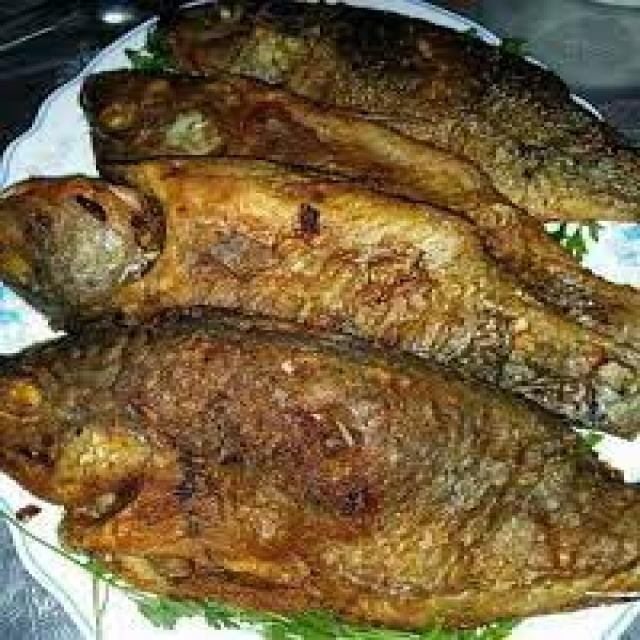Peixe: (0, 307, 637, 630), (0, 152, 637, 442), (157, 0, 637, 223)
